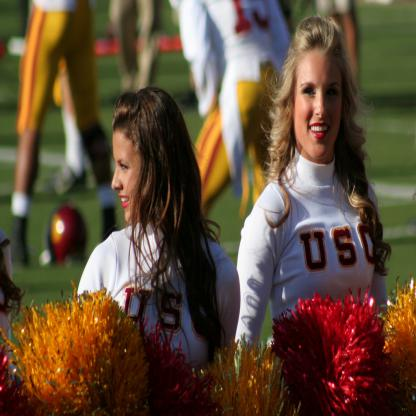Ball: (42, 204, 86, 268)
